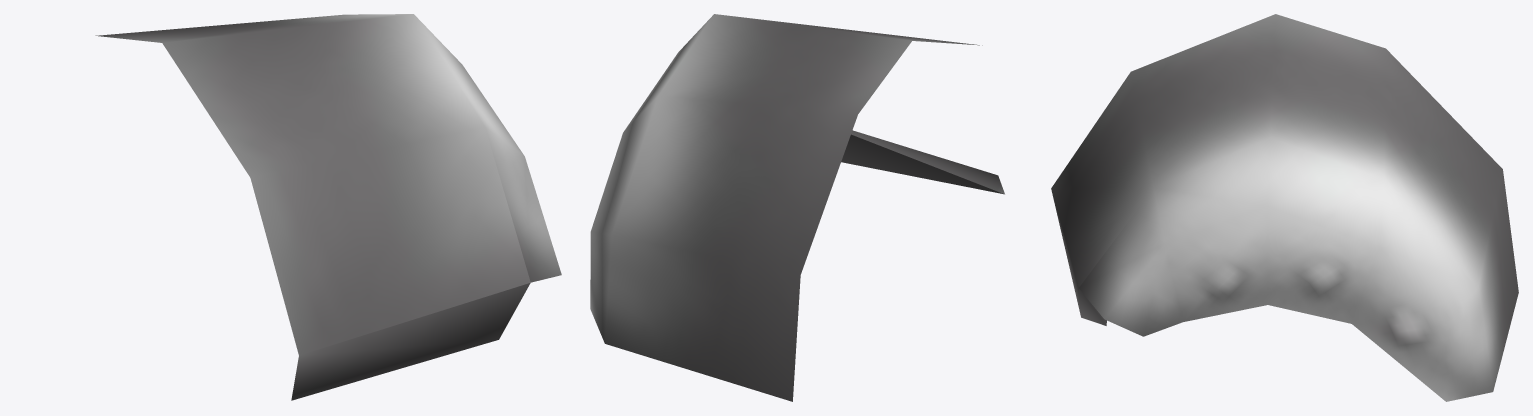
File: acc_20.glb
The picture shows the model from 3 angles, left to right: view 1: azimuth 30°, elevation 25°; view 2: azimuth 150°, elevation 25°; view 3: azimuth 270°, elevation 25°; orthographic projection. The views are drawn at different scales.
Visible parts, largest first — view 1: vertex; view 2: vertex; view 3: vertex.
Boxes of the visible parts, x1=… form: vertex: x1=95, y1=14, x2=561, y2=400; vertex: x1=590, y1=14, x2=1004, y2=401; vertex: x1=1051, y1=14, x2=1518, y2=401.
Size of the model in its own units: 0.6572 by 0.7213 by 1.1.
1 material, 1 textured.
